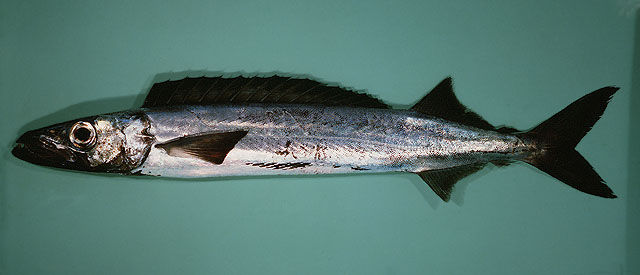fish: (11, 74, 620, 204)
